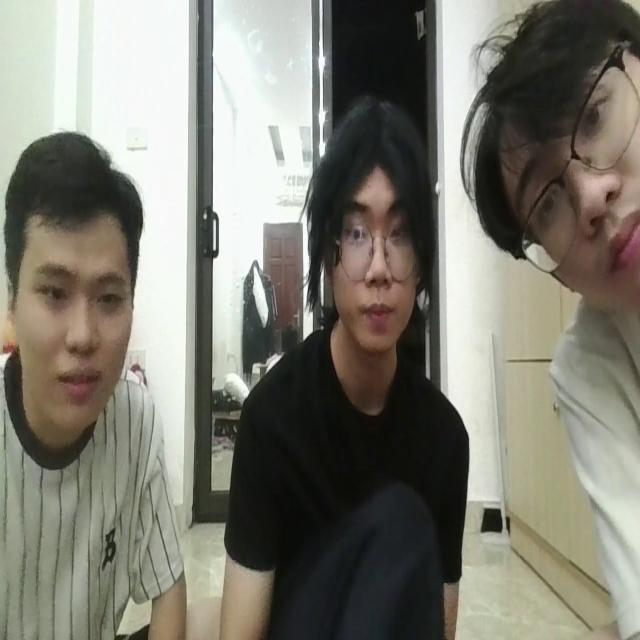extra_person: (461, 0, 640, 640), (1, 126, 189, 640)
student: (214, 92, 471, 640)
